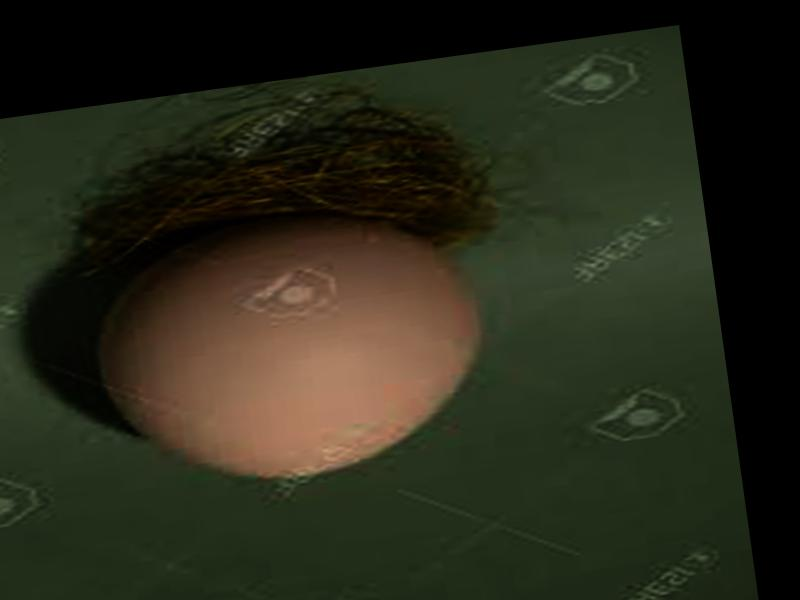Eggs: (83, 196, 495, 503)
